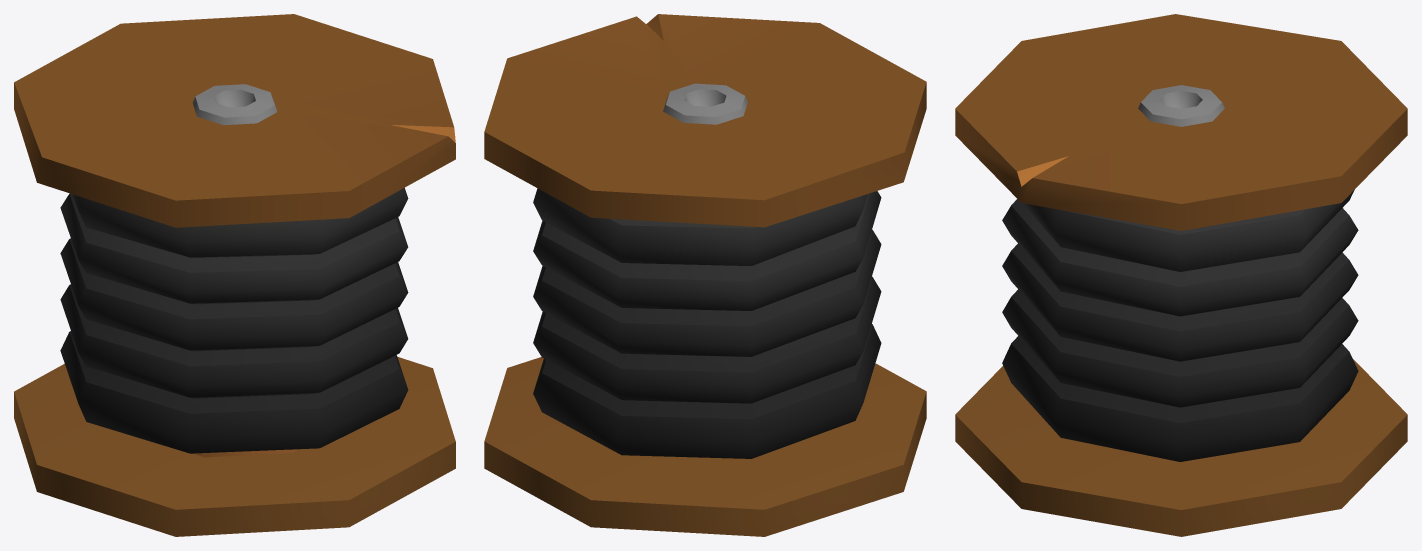
The model's file is Spool_1_2.fbx.
The picture shows the model from 3 angles, left to right: view 1: azimuth 30°, elevation 25°; view 2: azimuth 150°, elevation 25°; view 3: azimuth 270°, elevation 25°; orthographic projection.
Parts seen in each view (by area): view 1: Spool_1_2; view 2: Spool_1_2; view 3: Spool_1_2.
Part boxes in pixels (<box>): Spool_1_2: <box>14,14,455,536</box>; Spool_1_2: <box>484,14,926,536</box>; Spool_1_2: <box>955,14,1407,536</box>.
Size of the model in its own units: 121 by 102 by 121.
